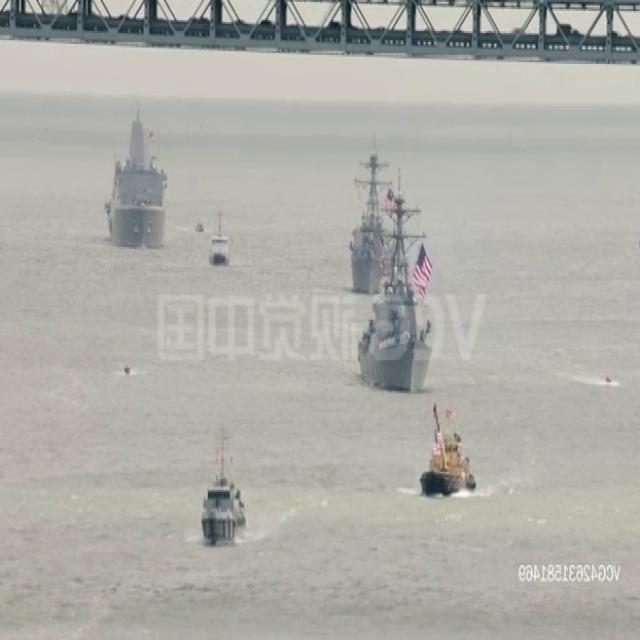houseboat: (418, 393, 478, 492), (202, 444, 243, 546), (209, 207, 233, 269), (195, 219, 205, 236), (605, 370, 615, 386), (122, 362, 132, 377)
navalvessels: (354, 168, 434, 388), (109, 104, 167, 244), (346, 141, 395, 288)
